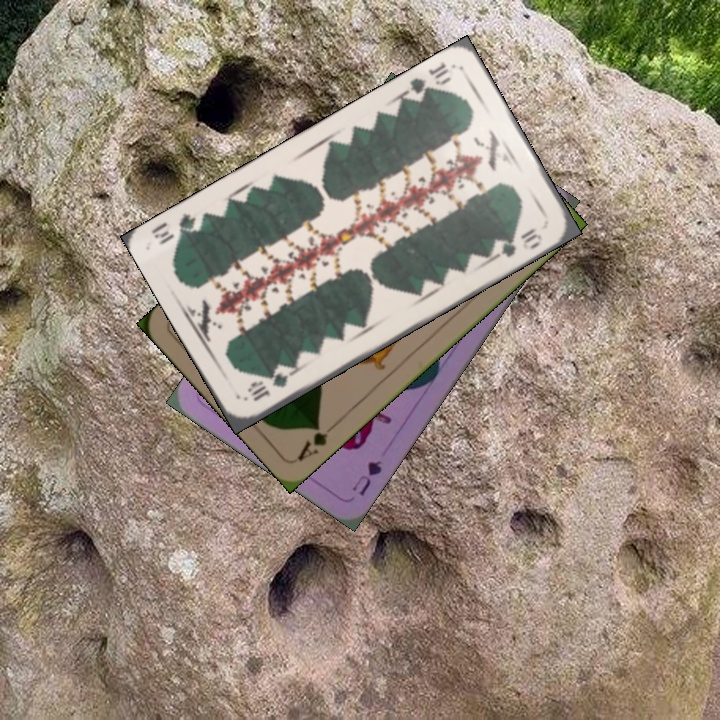G10: (401, 58, 454, 101), (244, 362, 297, 404)
GA: (293, 420, 341, 464)
GU: (348, 456, 385, 499)
